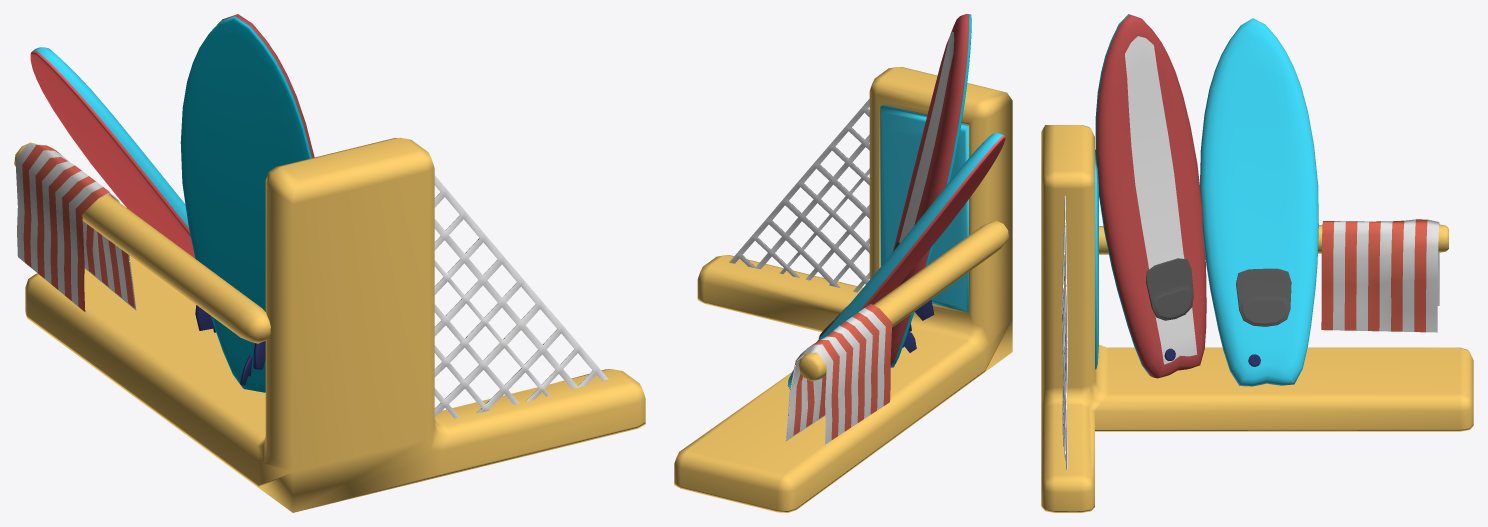
The model's file is porpsWall.fbx.
The picture shows the model from 3 angles, left to right: view 1: azimuth 30°, elevation 25°; view 2: azimuth 150°, elevation 25°; view 3: azimuth 270°, elevation 25°; orthographic projection. The views are drawn at different scales.
Parts seen in each view (by area): view 1: structure, surfTable2, towel, surfTable1; view 2: structure, towel, surfTable2, surfTable1; view 3: structure, surfTable1, surfTable2, towel.
Part boxes in pixels (x1=…): structure: x1=14, y1=137, x2=645, y2=512; surfTable2: x1=180, y1=14, x2=314, y2=392; towel: x1=15, y1=143, x2=136, y2=311; surfTable1: x1=30, y1=47, x2=215, y2=332; structure: x1=674, y1=67, x2=1012, y2=512; towel: x1=785, y1=303, x2=892, y2=444; surfTable2: x1=890, y1=14, x2=971, y2=367; surfTable1: x1=787, y1=133, x2=1005, y2=389; structure: x1=1041, y1=125, x2=1473, y2=512; surfTable1: x1=1200, y1=18, x2=1318, y2=386; surfTable2: x1=1095, y1=14, x2=1206, y2=378; towel: x1=1321, y1=219, x2=1439, y2=332.
Bounding box in the file's own units: 3.25 × 2.94 × 3.2.
